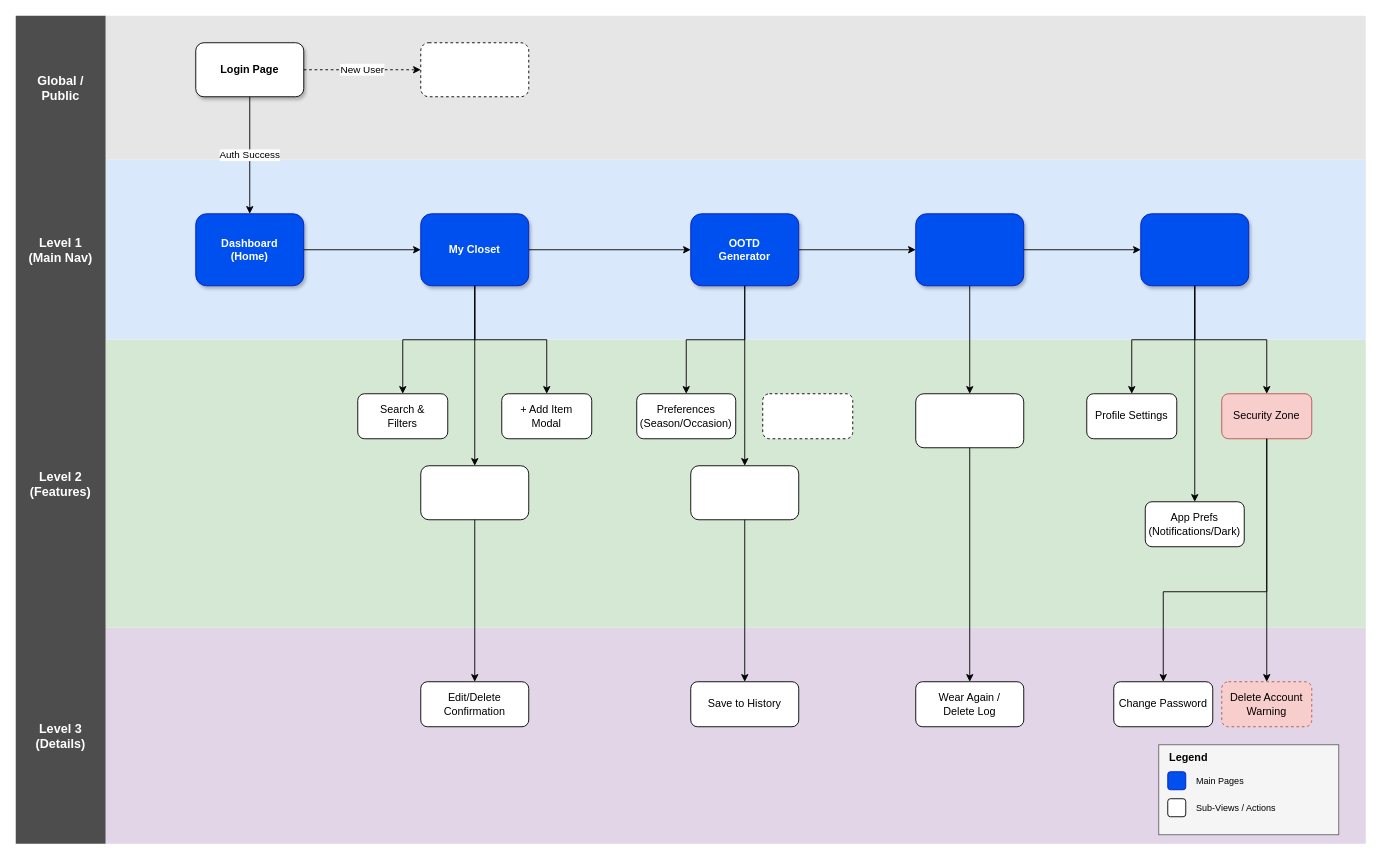
Image size: 1381x859. Some labels were removed from this diagram. Here are the shapes that lost their labels. From the top down, the centre of each, then its label:
At (x=474, y=69): "Register Page".
At (x=970, y=250): "History".
At (x=1195, y=250): "Settings".
At (x=807, y=416): "Quick Picks (History)".
At (x=969, y=420): "Outfit Logs (List by Date)".
At (x=474, y=492): "Item Grid View".
At (x=744, y=492): "Result View (Top/Bottom)".
